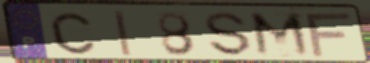8: (156, 10, 198, 57)
C: (48, 11, 98, 56)
F: (303, 11, 356, 59)
I: (111, 9, 134, 59)
M: (247, 11, 315, 59)
S: (203, 11, 254, 58)
